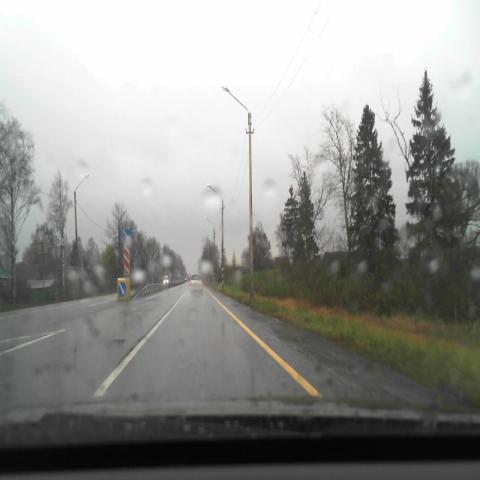4_2_1: (118, 281, 126, 298), (122, 228, 131, 243)
